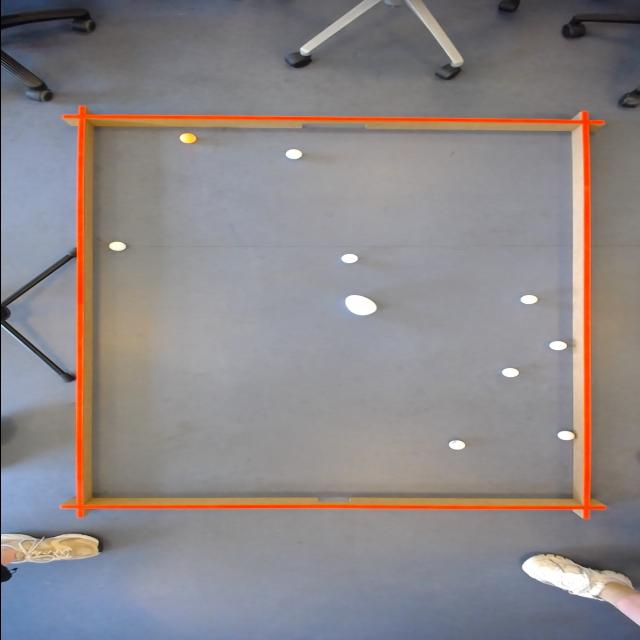egg: (340, 294, 380, 316)
orange_ball: (174, 133, 198, 145)
white_ball: (546, 339, 570, 353), (554, 429, 576, 441), (106, 240, 128, 252), (282, 148, 304, 160), (446, 439, 466, 452), (340, 253, 360, 265), (500, 367, 520, 379), (519, 294, 540, 305)
